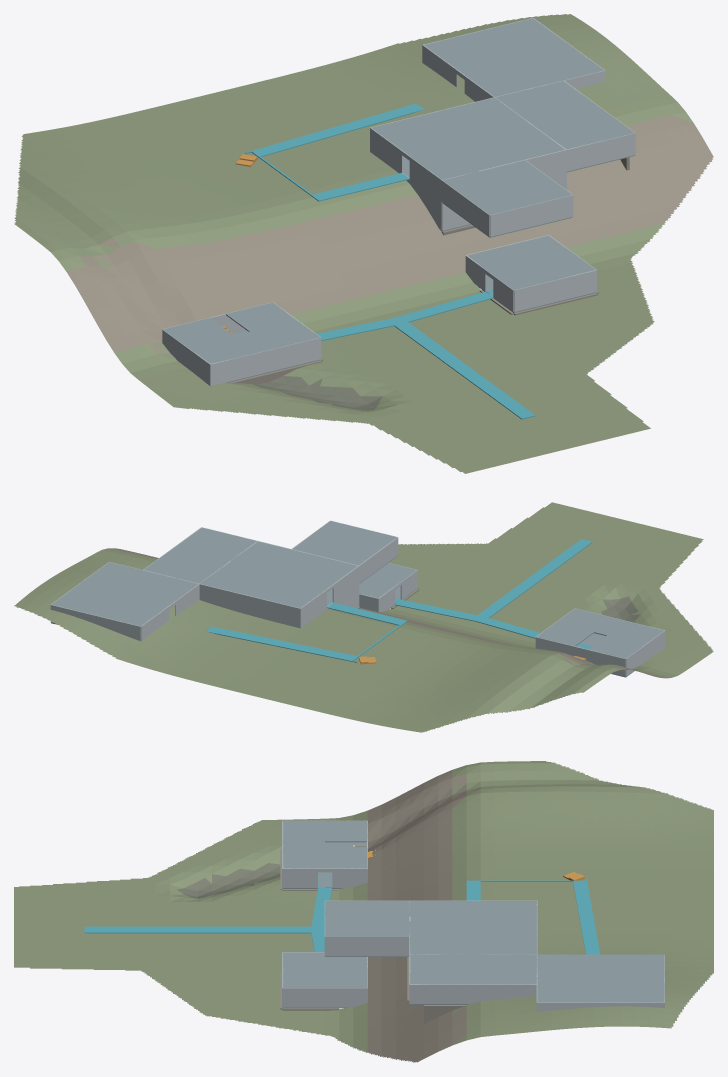
The model's file is supported-terrain.glb.
The picture shows the model from 3 angles, top to bottom: view 1: azimuth 30°, elevation 25°; view 2: azimuth 150°, elevation 25°; view 3: azimuth 270°, elevation 25°; orthographic projection. The views are drawn at different scales.
Visible parts, largest first — view 1: Saved editor macroterrain WLD-03, Ceiling cap gallery, Ceiling cap chamber, Ceiling cap fork, Ceiling cap alcove, Ceiling cap wash, Wall shelter S, Wall wash S, Wall alcove S, L12 support 0, Wall fork S, Ceiling cap shelter.003 (+12 smaller); view 2: Saved editor macroterrain WLD-03, Ceiling cap gallery, Ceiling cap chamber, Ceiling cap fork, Ceiling cap alcove, Wall gallery N, L12 support 0, Ceiling cap wash, Wall shelter N, Wall chamber N, Ceiling cap shelter.003, Ceiling cap shelter.004 (+13 smaller); view 3: Saved editor macroterrain WLD-03, Ceiling cap gallery, Ceiling cap chamber, Ceiling cap fork, Ceiling cap alcove, Ceiling cap wash, Wall fork E, Wall alcove E, Wall wash E, L12 support 0, Ceiling cap shelter, Ceiling cap shelter.001 (+8 smaller).
Part boxes in pixels (x1,y1,x2,y2): Saved editor macroterrain WLD-03: (14,14,713,473); Ceiling cap gallery: (371,97,564,179); Ceiling cap chamber: (424,18,604,96); Ceiling cap fork: (495,80,634,149); Ceiling cap alcove: (443,160,572,214); Ceiling cap wash: (467,235,595,290); Wall shelter S: (210,337,320,385); Wall wash S: (514,270,596,311); Wall alcove S: (490,195,572,236); L12 support 0: (245,103,424,156); Wall fork S: (566,133,635,171); Ceiling cap shelter.003: (226,302,296,331); Saved editor macroterrain WLD-03: (14,502,713,732); Ceiling cap gallery: (200,541,357,608); Ceiling cap chamber: (51,562,197,626); Ceiling cap fork: (144,527,256,583); Ceiling cap alcove: (292,521,396,565); Wall gallery N: (199,583,300,626); L12 support 0: (206,626,357,662); Ceiling cap wash: (359,563,416,598); Wall shelter N: (535,637,625,676); Wall chamber N: (50,604,140,641); Ceiling cap shelter.003: (536,623,593,646); Ceiling cap shelter.004: (556,608,612,631); Saved editor macroterrain WLD-03: (14,761,713,1062); Ceiling cap gallery: (410,901,537,954); Ceiling cap chamber: (537,954,664,1002); Ceiling cap fork: (410,954,537,984); Ceiling cap alcove: (325,901,409,936); Ceiling cap wash: (282,952,367,987); Wall fork E: (410,984,537,1003); Wall alcove E: (325,937,409,956); Wall wash E: (282,988,367,1007); L12 support 0: (573,878,600,954); Ceiling cap shelter: (325,820,367,842); Ceiling cap shelter.001: (282,820,324,841).
Bounding box in the file's own units: 91 × 12.65 × 99.
20 materials, 12 textured.
